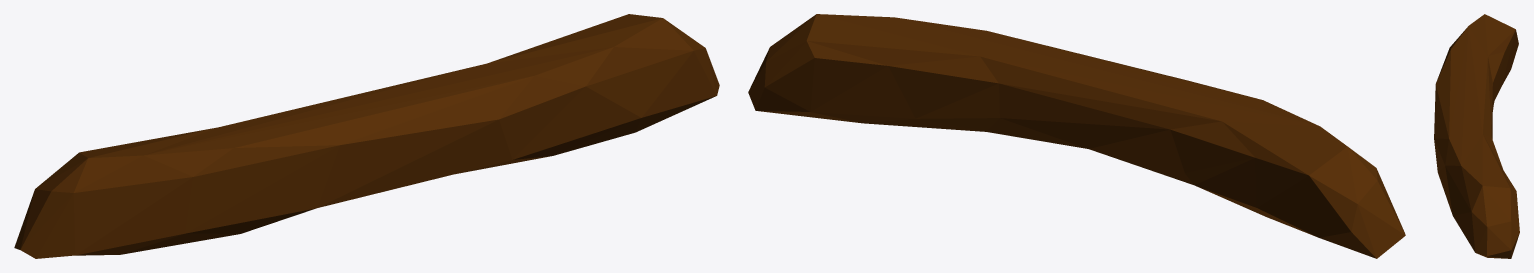
File: Moustache3.glb
3 renders of one model, left to right at view 1: azimuth 30°, elevation 25°; view 2: azimuth 150°, elevation 25°; view 3: azimuth 270°, elevation 25°, orthographic. The views are drawn at different scales.
Parts seen in each view (by area): view 1: Plane.002; view 2: Plane.002; view 3: Plane.002.
Part boxes in pixels (x1,y1,x2,y2): Plane.002: (14,14,719,258); Plane.002: (748,14,1405,258); Plane.002: (1434,14,1519,258).
Bounding box in the file's own units: 0.3656 × 0.0503 × 0.0631.
